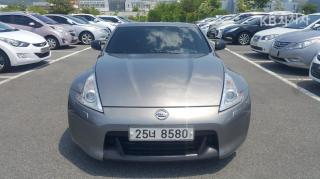0: (182, 128, 188, 139)
2: (135, 128, 142, 139)
5: (142, 128, 149, 139), (168, 128, 175, 139)
8: (160, 128, 168, 140), (175, 128, 182, 138)
너: (148, 129, 157, 139)
